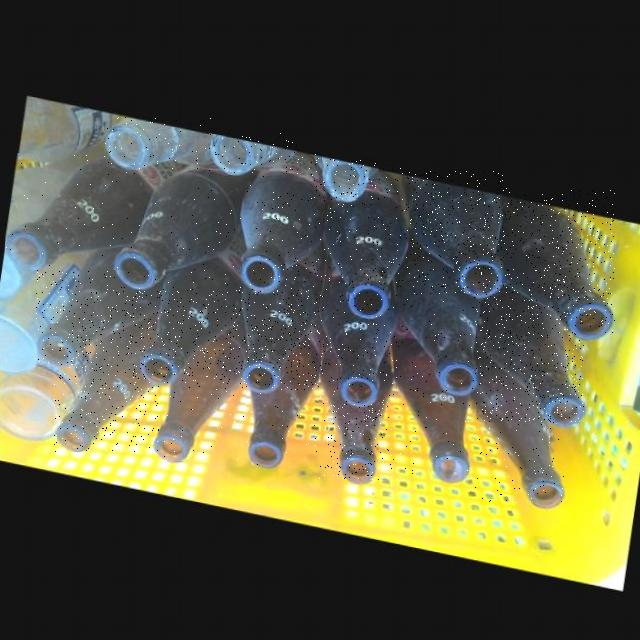glass: (6, 153, 188, 270), (111, 166, 257, 289), (138, 223, 246, 384), (496, 190, 615, 334), (37, 246, 163, 368), (476, 280, 584, 422), (55, 311, 161, 452), (470, 346, 564, 503), (150, 318, 246, 461), (389, 319, 472, 477), (239, 150, 332, 291), (323, 166, 411, 315), (398, 233, 480, 391), (403, 171, 507, 294), (242, 246, 326, 390), (247, 313, 324, 466), (320, 253, 397, 404), (320, 335, 392, 480), (104, 117, 212, 169), (210, 133, 297, 173), (314, 153, 379, 199)
